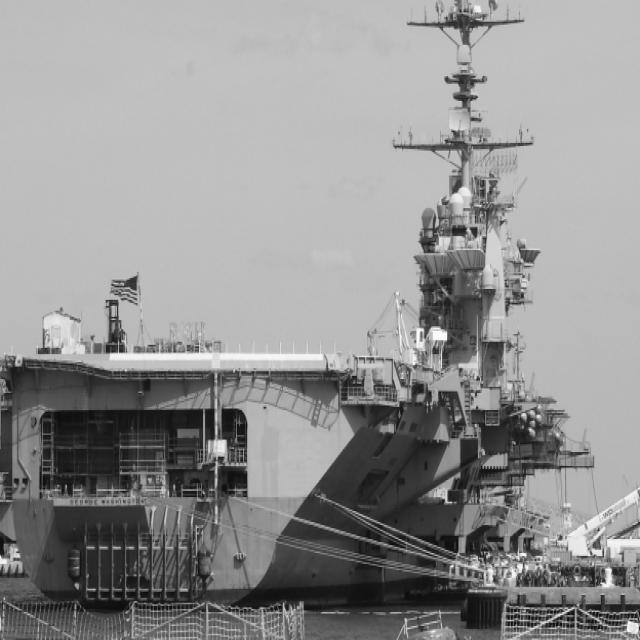Portanaves: (1, 1, 574, 611)
